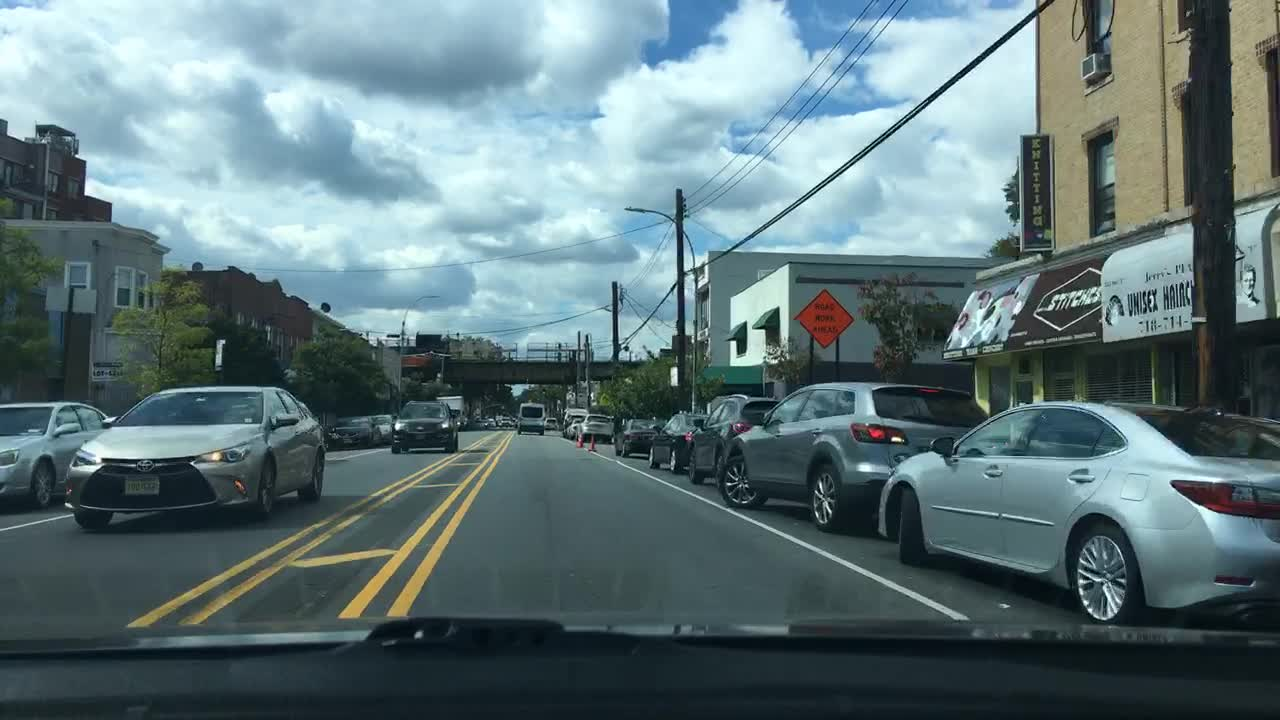car: (877, 401, 1276, 626), (714, 380, 987, 534), (64, 384, 327, 532), (0, 401, 112, 509), (683, 393, 778, 484), (390, 401, 461, 454), (646, 411, 707, 472), (610, 415, 666, 459), (325, 415, 378, 452), (572, 411, 616, 441), (373, 413, 397, 446), (558, 407, 588, 433), (515, 415, 548, 437), (559, 418, 584, 438), (470, 414, 487, 431), (542, 414, 559, 430), (499, 417, 515, 431), (507, 417, 519, 427), (487, 418, 497, 429)
traffic sign: (793, 286, 851, 349), (671, 333, 691, 356), (669, 366, 686, 388)
truck: (433, 396, 469, 429)
